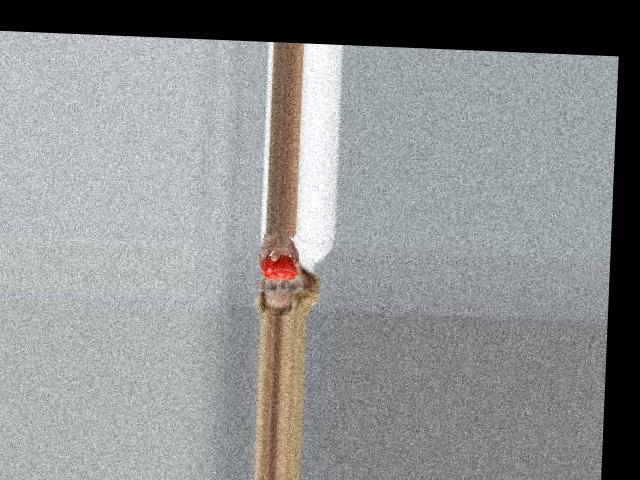tomato: (261, 254, 298, 279)
